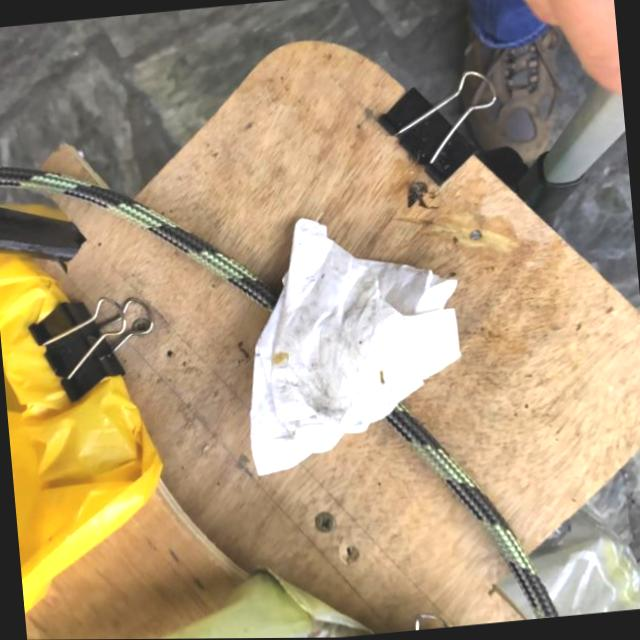Paper: (228, 204, 476, 482)
